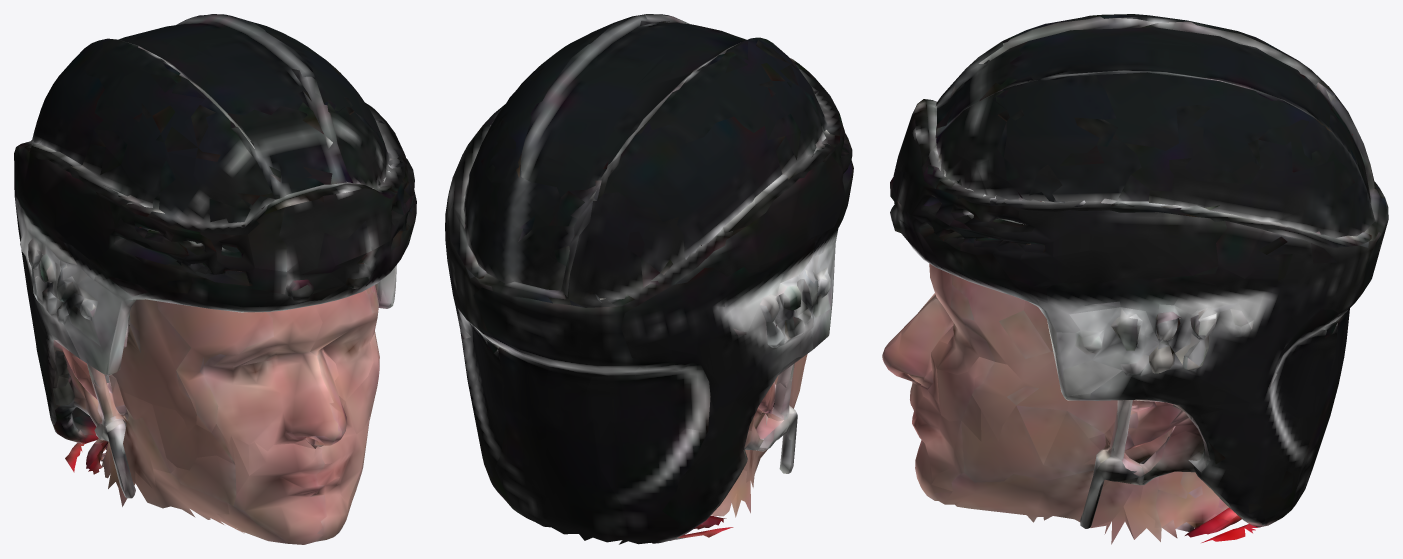
The model's file is head_C_low.glb.
The picture shows the model from 3 angles, left to right: view 1: azimuth 30°, elevation 25°; view 2: azimuth 150°, elevation 25°; view 3: azimuth 270°, elevation 25°; orthographic projection. The views are drawn at different scales.
Visible parts, largest first — view 1: head; view 2: head; view 3: head.
Boxes of the visible parts, left/top/right/bottom form: head: left=14, top=14, right=416, bottom=544; head: left=445, top=14, right=853, bottom=544; head: left=882, top=14, right=1388, bottom=544.
Bounding box in the file's own units: 0.2229 × 0.2878 × 0.289.
1 material, 1 textured.
